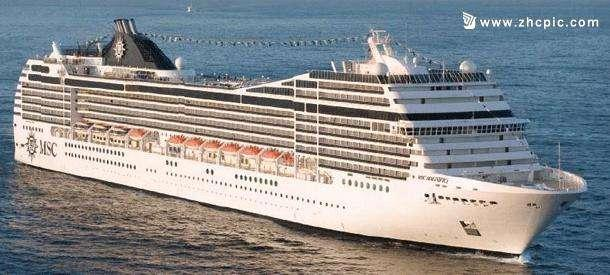youlun: (12, 15, 589, 254)
